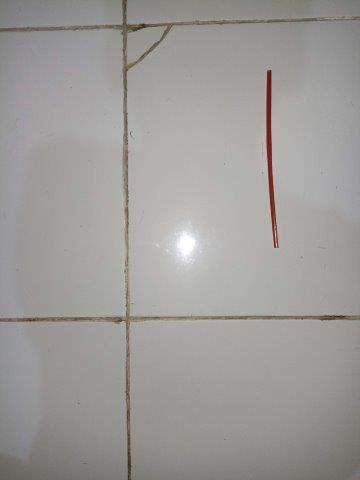sedotan: (266, 70, 279, 248)
